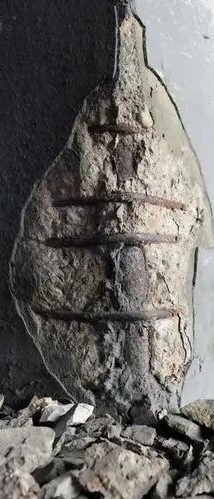Exposed reinforcement: (31, 303, 185, 324), (50, 191, 187, 213), (43, 231, 182, 250), (87, 121, 142, 137)
Spalling: (6, 1, 214, 418)
